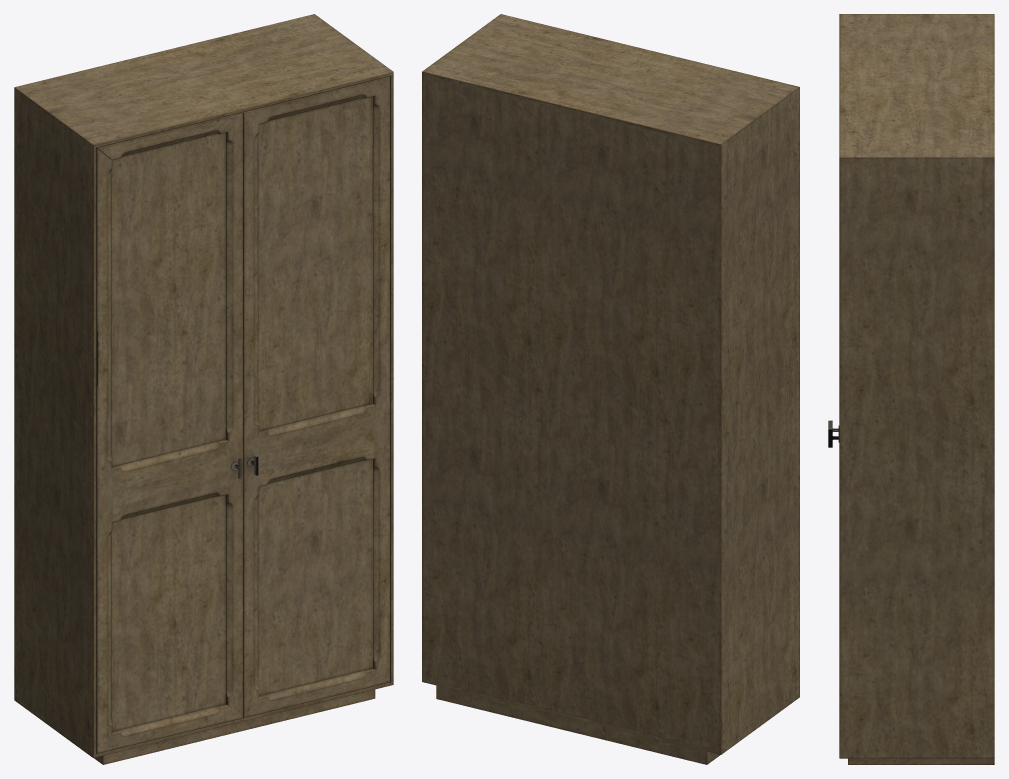
Rendered from Tallcabinet.glb.
3 views of the same model, side by side, from view 1: azimuth 30°, elevation 25°; view 2: azimuth 150°, elevation 25°; view 3: azimuth 270°, elevation 25° (orthographic). The views are drawn at different scales.
Parts seen in each view (by area): view 1: Body008; view 2: Body008; view 3: Body008.
Boxes of the visible parts, box(x1,y1,x2,y2) form: Body008: box(14, 14, 393, 764); Body008: box(422, 14, 799, 764); Body008: box(828, 14, 994, 764).
Size of the model in its own units: 1.16 by 2.31 by 0.567.
Materials: 1 (1 with a texture image).
